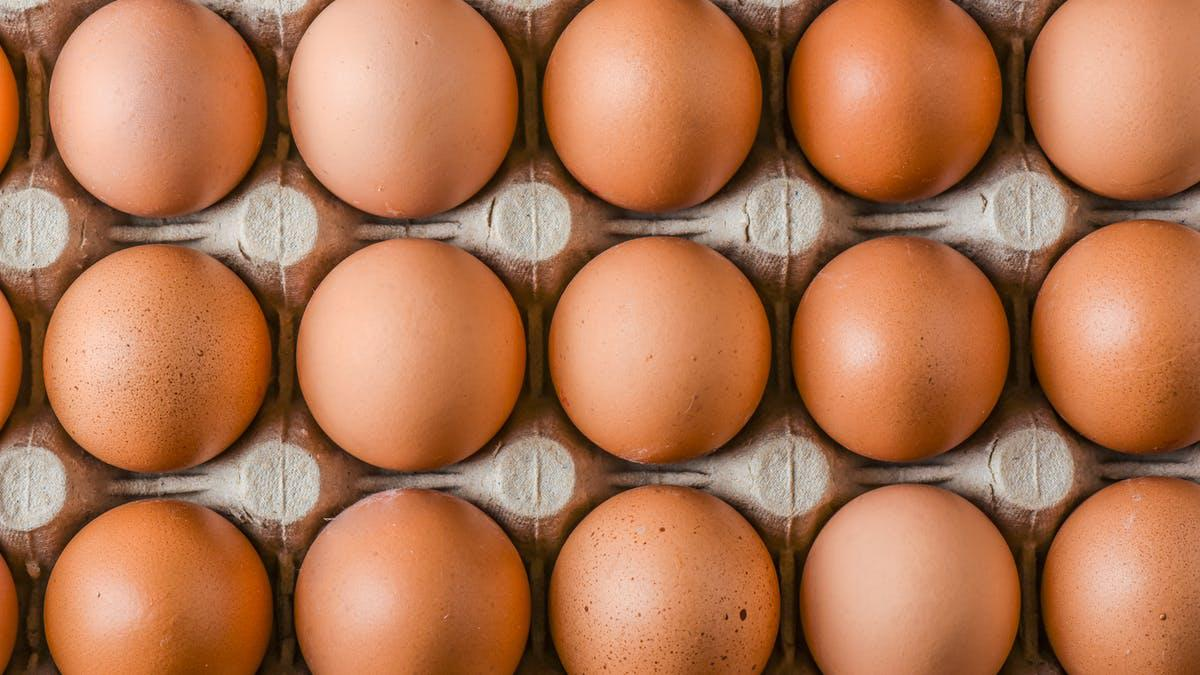egg: (37, 235, 281, 482), (283, 234, 535, 472), (783, 228, 1021, 471), (545, 228, 778, 473), (285, 0, 524, 227), (535, 0, 770, 221), (47, 0, 272, 229), (773, 0, 1010, 217), (291, 483, 530, 675), (547, 485, 774, 675), (799, 481, 1018, 675), (31, 499, 268, 675), (1030, 219, 1200, 458), (1027, 0, 1197, 213), (1043, 467, 1200, 675)
